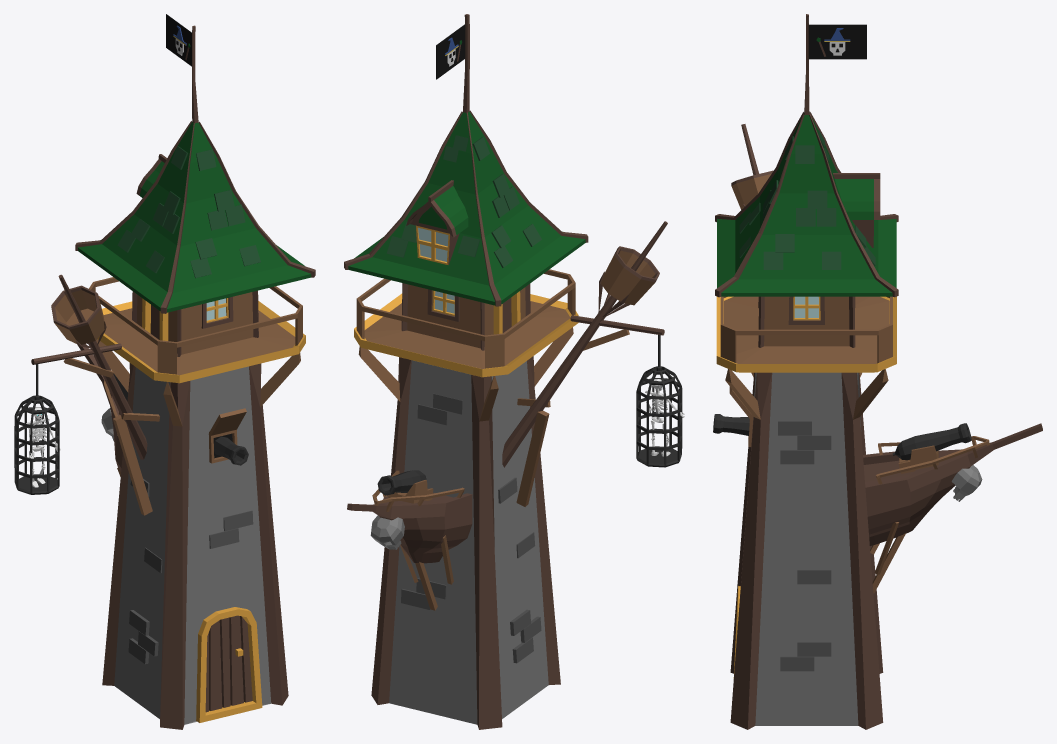
The model's file is Tower1merged2X2.fbx.
The picture shows the model from 3 angles, left to right: view 1: azimuth 30°, elevation 25°; view 2: azimuth 150°, elevation 25°; view 3: azimuth 270°, elevation 25°; orthographic projection. The views are drawn at different scales.
Visible parts, largest first — view 1: Tower; view 2: Tower; view 3: Tower.
Boxes of the visible parts, x1,y1,x2,y2 form: Tower: [14, 14, 315, 729]; Tower: [344, 14, 684, 729]; Tower: [713, 14, 1042, 729].
Bounding box in the file's own units: 484 × 1130 × 495.
